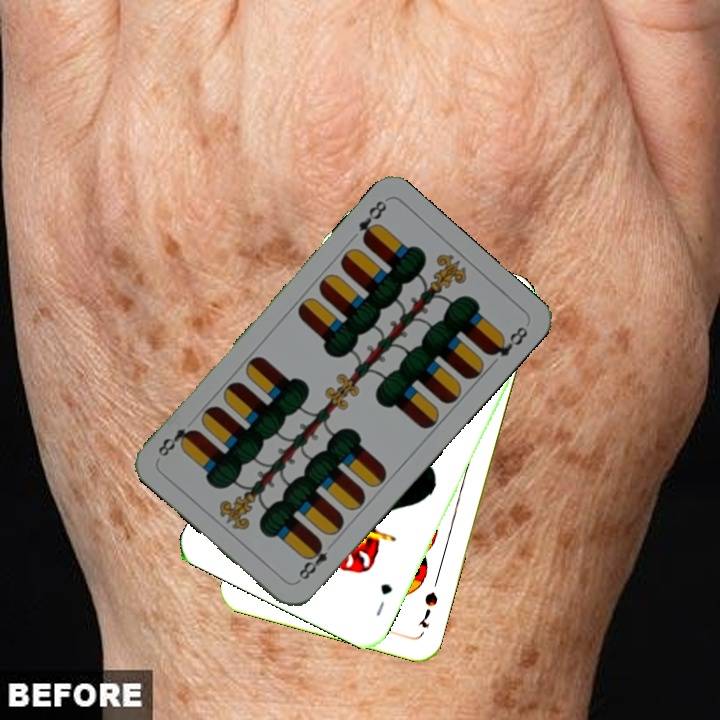E8: (354, 196, 390, 246), (293, 537, 330, 585)
GU: (372, 579, 395, 619)
S7: (414, 587, 441, 631)
